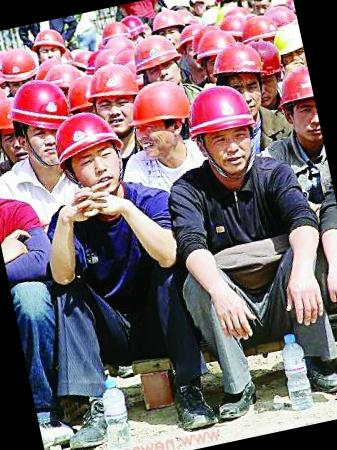helmet: (180, 79, 258, 147), (122, 76, 196, 145), (46, 106, 124, 169), (3, 74, 74, 142), (78, 56, 140, 108), (130, 31, 178, 75), (189, 26, 241, 64), (274, 65, 315, 110), (271, 20, 304, 58)
no_wear: (57, 193, 173, 308), (179, 162, 295, 258)
